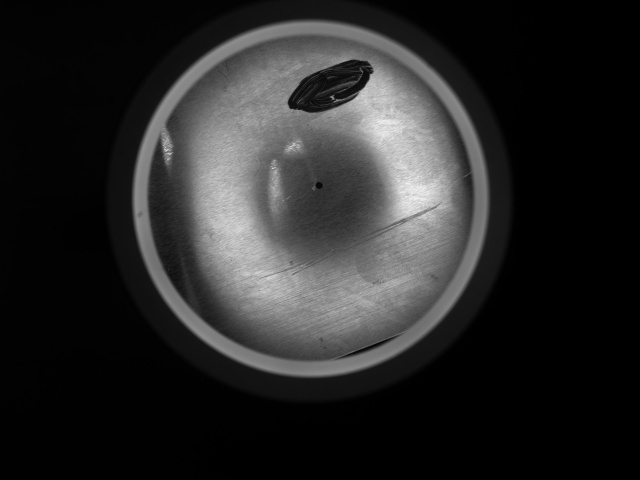ca_shang: (237, 196, 451, 287)
zang_wu: (282, 55, 375, 114)
zhen_kong: (310, 179, 327, 192)
